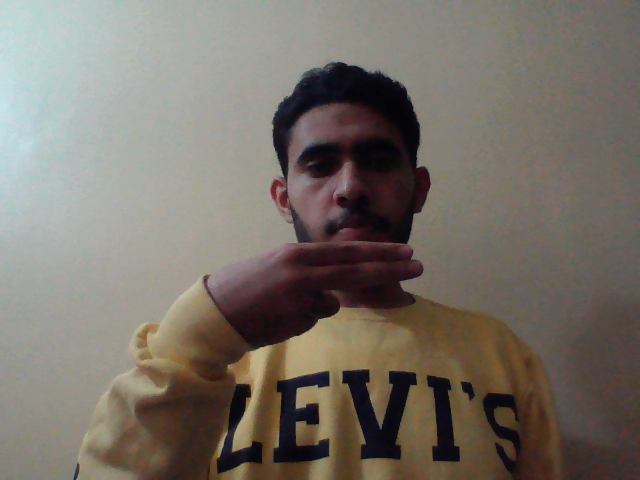H: (185, 241, 424, 363)
